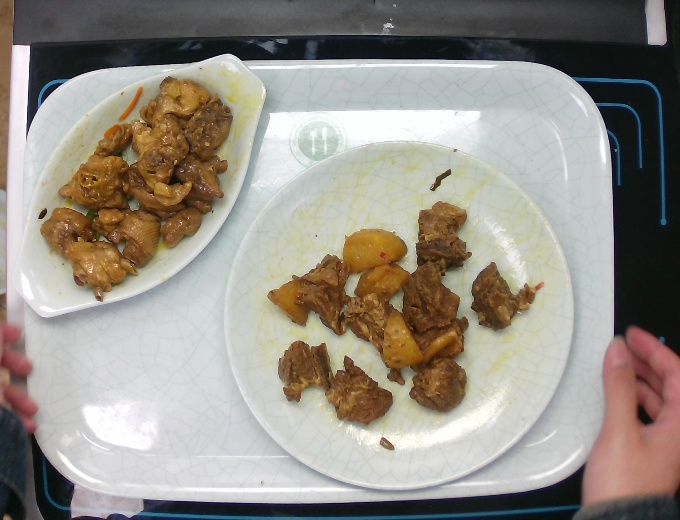JYsf-Da_Yuan_Pan: (226, 138, 574, 493)
JYsf-Yu_Pan: (14, 50, 272, 321)
